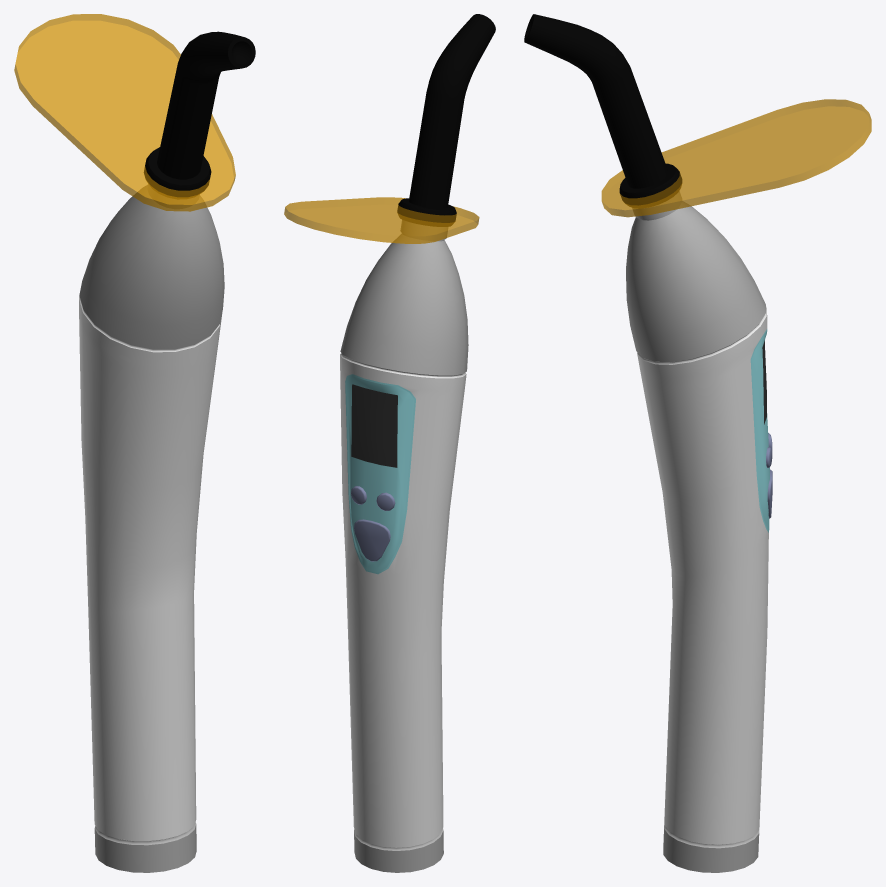
The model's file is Curing_Light_Wand.fbx.
The picture shows the model from 3 angles, left to right: view 1: azimuth 30°, elevation 25°; view 2: azimuth 150°, elevation 25°; view 3: azimuth 270°, elevation 25°; orthographic projection. The views are drawn at different scales.
Parts seen in each view (by area): view 1: Heat_Ray_Gun_Thingy; view 2: Heat_Ray_Gun_Thingy; view 3: Heat_Ray_Gun_Thingy.
Part boxes in pixels (x1,y1,x2,y2): Heat_Ray_Gun_Thingy: [14, 14, 255, 872]; Heat_Ray_Gun_Thingy: [284, 14, 495, 872]; Heat_Ray_Gun_Thingy: [524, 14, 871, 872].
Bounding box in the file's own units: 10.03 × 55.42 × 20.83.
